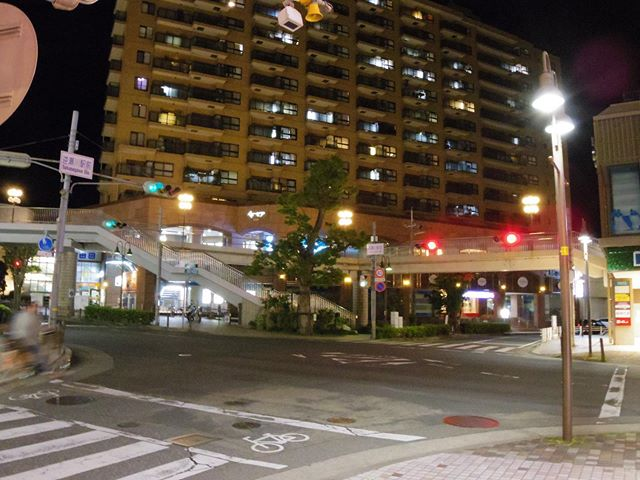building: (122, 1, 565, 198)
crosswalk: (4, 393, 279, 480), (375, 327, 540, 358)
light pole: (518, 72, 592, 462)
street: (74, 322, 640, 480)
